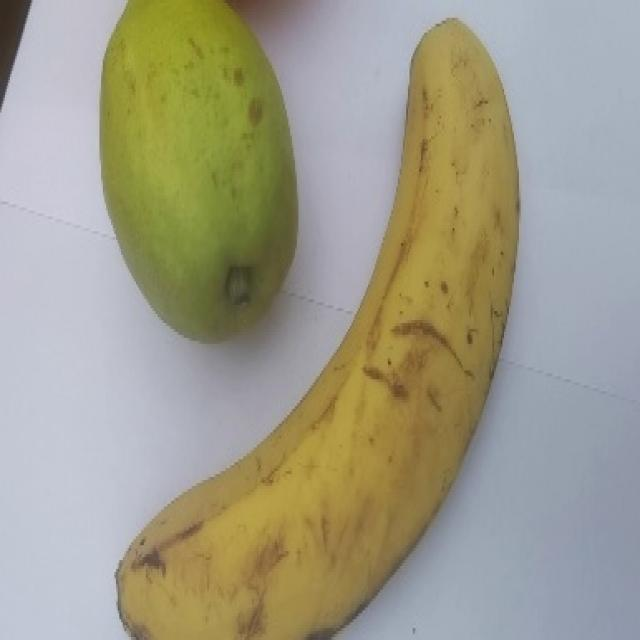Banana: (114, 16, 521, 639)
